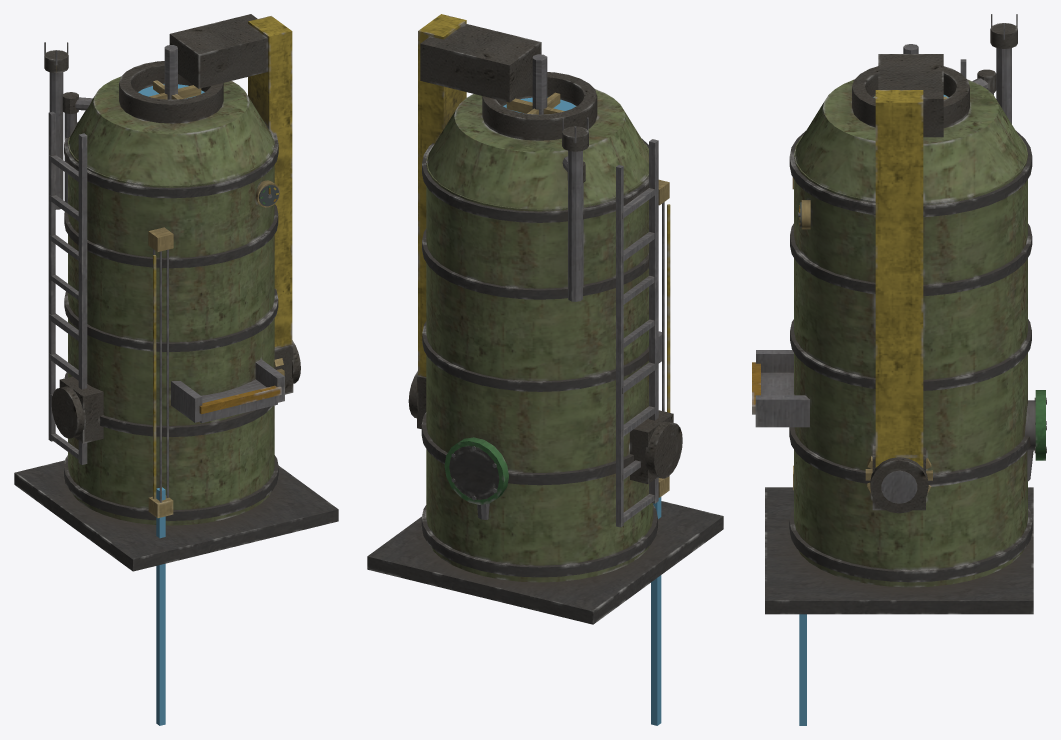
The model's file is feBiodigesterBig_HD.fbx.
3 views of the same model, side by side, from view 1: azimuth 30°, elevation 25°; view 2: azimuth 150°, elevation 25°; view 3: azimuth 270°, elevation 25° (orthographic). The views are drawn at different scales.
Parts seen in each view (by area): view 1: feBiodigesterBig_Base, FeSurface_r0.95_Level, FeSpin_DriveShaft, FeSpin_x0.5_Stirrer; view 2: feBiodigesterBig_Base, FeSpin_DriveShaft, FeSurface_r0.95_Level, FeSpin_x0.5_Stirrer; view 3: feBiodigesterBig_Base, FeSpin_DriveShaft, FeSurface_r0.95_Level.
Boxes of the visible parts, <box> form: feBiodigesterBig_Base: <box>14,14,338,571</box>; FeSurface_r0.95_Level: <box>156,487,165,725</box>; FeSpin_DriveShaft: <box>51,340,300,438</box>; FeSpin_x0.5_Stirrer: <box>149,45,201,99</box>; feBiodigesterBig_Base: <box>367,14,723,624</box>; FeSpin_DriveShaft: <box>408,371,682,478</box>; FeSurface_r0.95_Level: <box>651,497,661,725</box>; FeSpin_x0.5_Stirrer: <box>506,54,564,114</box>; feBiodigesterBig_Base: <box>752,14,1046,614</box>; FeSpin_DriveShaft: <box>865,456,932,513</box>; FeSurface_r0.95_Level: <box>799,614,806,725</box>.
Size of the model in its own units: 1 by 2.69 by 1.01.
Materials: 2 (1 with a texture image).
